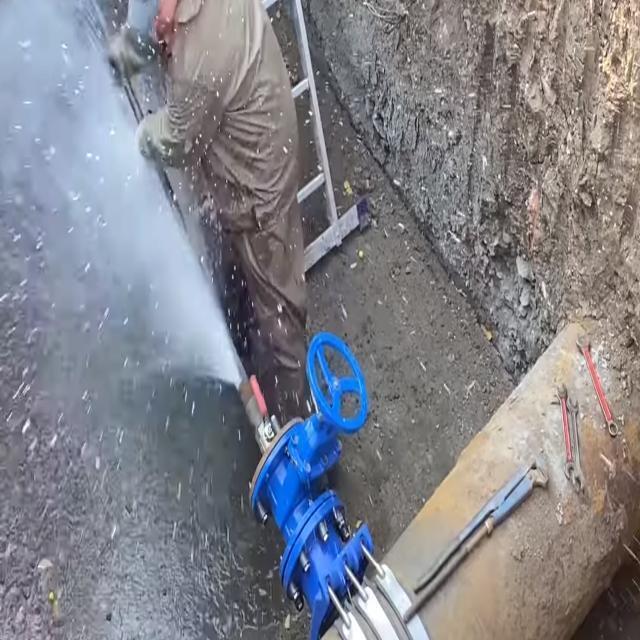pipe burst: (0, 2, 254, 397)
